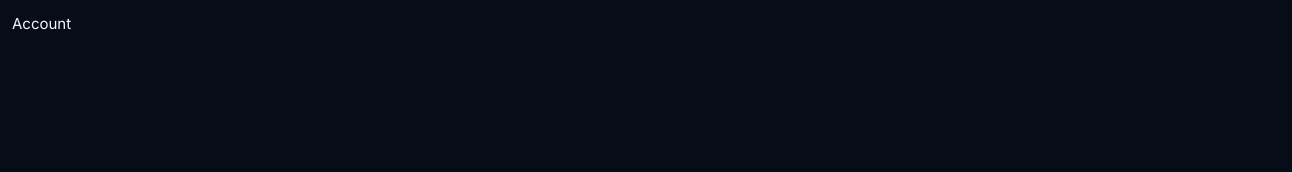
Menu › opens, moves with arrows, activates, and closes on Escape returning focus
The width and height of the screenshot is (1292, 172).
Later steps or results of the test are not shown.
Click the button with aria-label "Account menu" at (42, 24), box [12, 12, 71, 36]
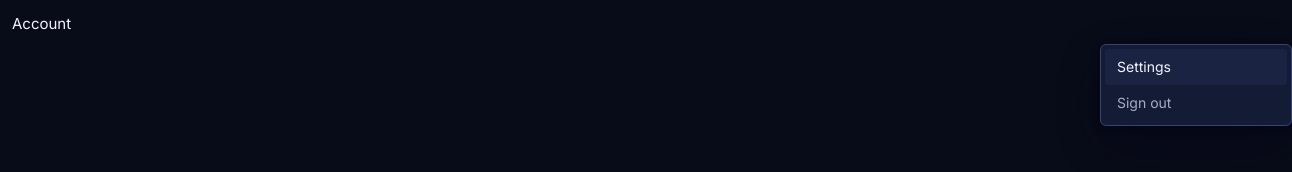
Press Arrowdown
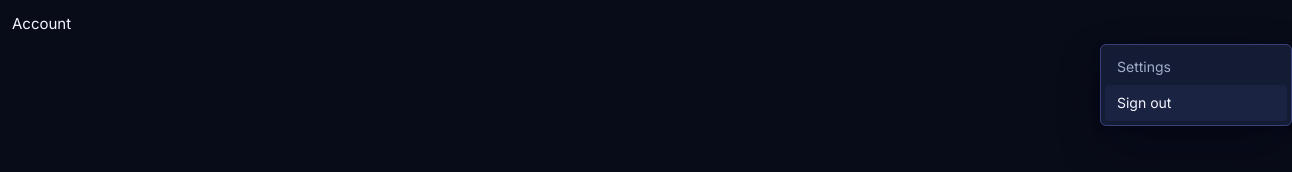
Press Escape
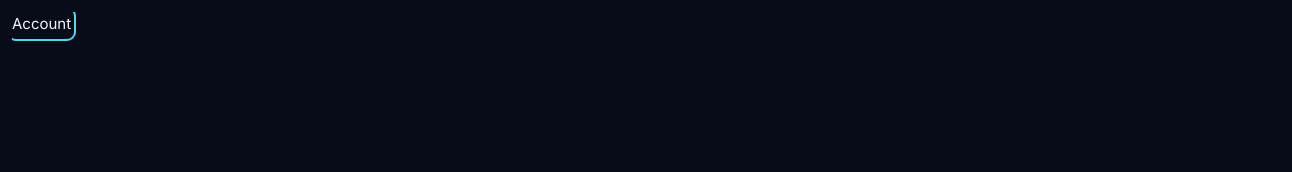
Expected: the menu is gone
